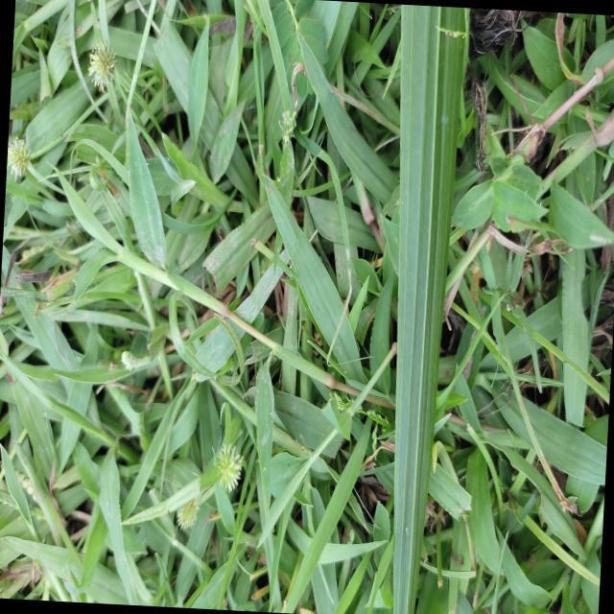Healthy: (388, 8, 467, 611)
